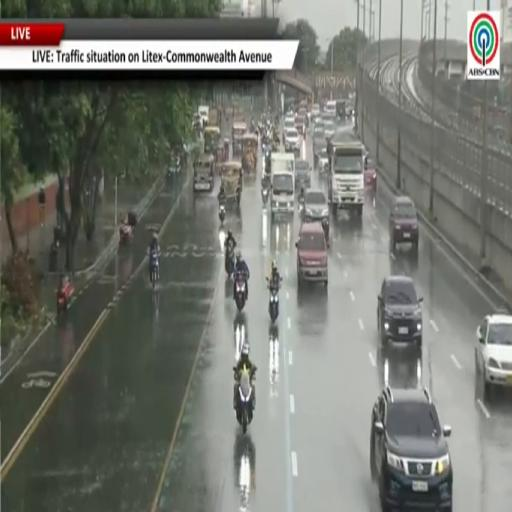car: (370, 386, 452, 511), (377, 276, 422, 346), (475, 312, 511, 397), (296, 222, 327, 287), (376, 346, 422, 387), (389, 196, 419, 251), (301, 189, 329, 247), (303, 189, 328, 221), (295, 159, 311, 189), (313, 131, 326, 166), (364, 157, 377, 191), (285, 128, 301, 152), (312, 125, 325, 148), (283, 118, 294, 143), (318, 146, 328, 173), (295, 116, 306, 135), (324, 120, 335, 138), (310, 104, 320, 120), (283, 117, 294, 129), (315, 117, 324, 130)
jeepney: (220, 162, 242, 204), (194, 154, 214, 191), (242, 134, 257, 173), (232, 122, 247, 156), (204, 125, 220, 154), (215, 141, 229, 173)
motorcycle: (234, 366, 254, 434), (57, 280, 74, 315), (267, 278, 278, 323), (235, 275, 246, 312), (150, 250, 159, 289), (119, 223, 133, 244), (225, 246, 234, 276), (322, 218, 329, 247), (219, 204, 225, 223), (298, 197, 304, 214), (262, 187, 268, 204)
truck: (328, 141, 364, 216), (270, 153, 295, 220)
